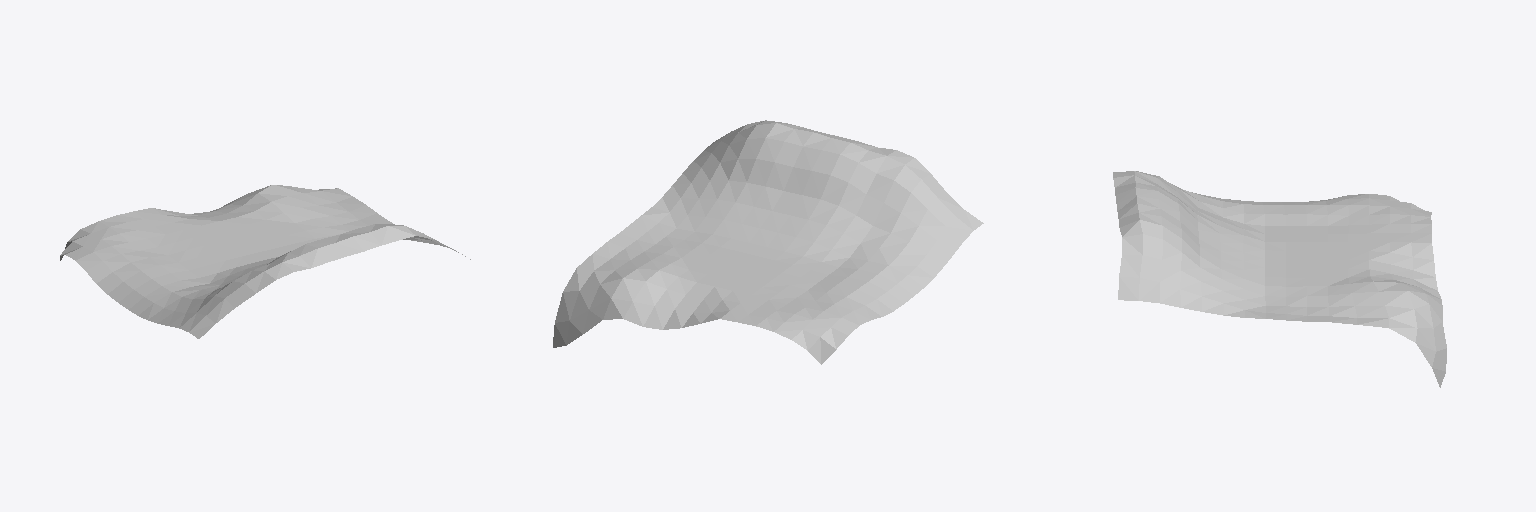
Rendered from boulder2.obj.
The picture shows the model from 3 angles: view 1: azimuth 30°, elevation 25°; view 2: azimuth 150°, elevation 25°; view 3: azimuth 270°, elevation 25°; orthographic projection.
Visible parts, largest first — view 1: Grid.001; view 2: Grid.001; view 3: Grid.001.
Boxes of the visible parts, x1=… form: Grid.001: x1=60, y1=185, x2=470, y2=338; Grid.001: x1=553, y1=120, x2=983, y2=364; Grid.001: x1=1113, y1=171, x2=1446, y2=387.
Bounding box in the file's own units: 8.1 × 3.75 × 8.53.